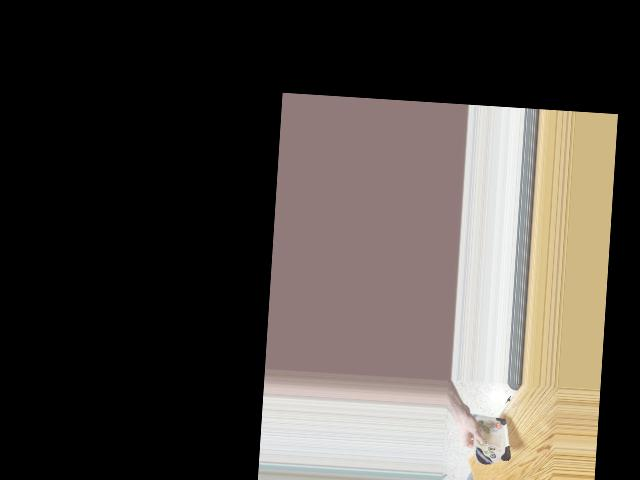cheese: (465, 412, 513, 467)
